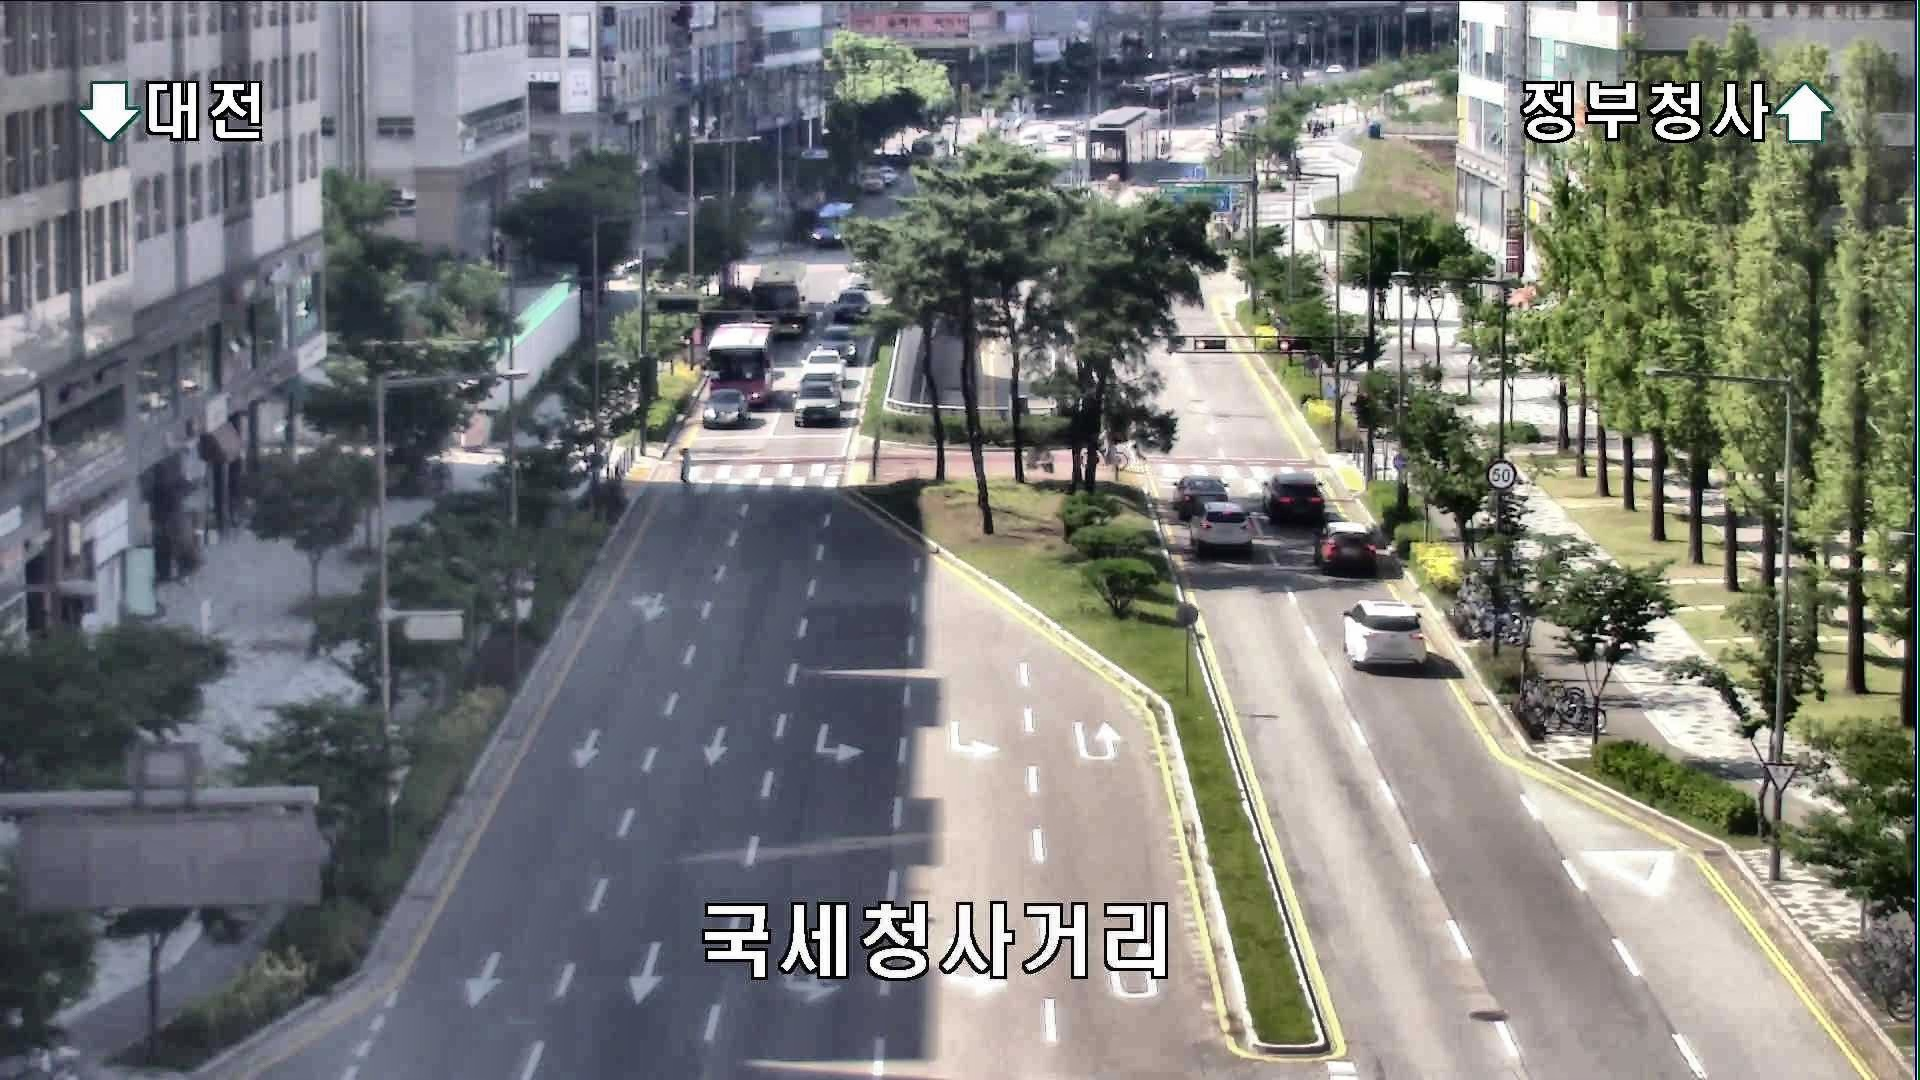crosswalk: (674, 446, 692, 487)
